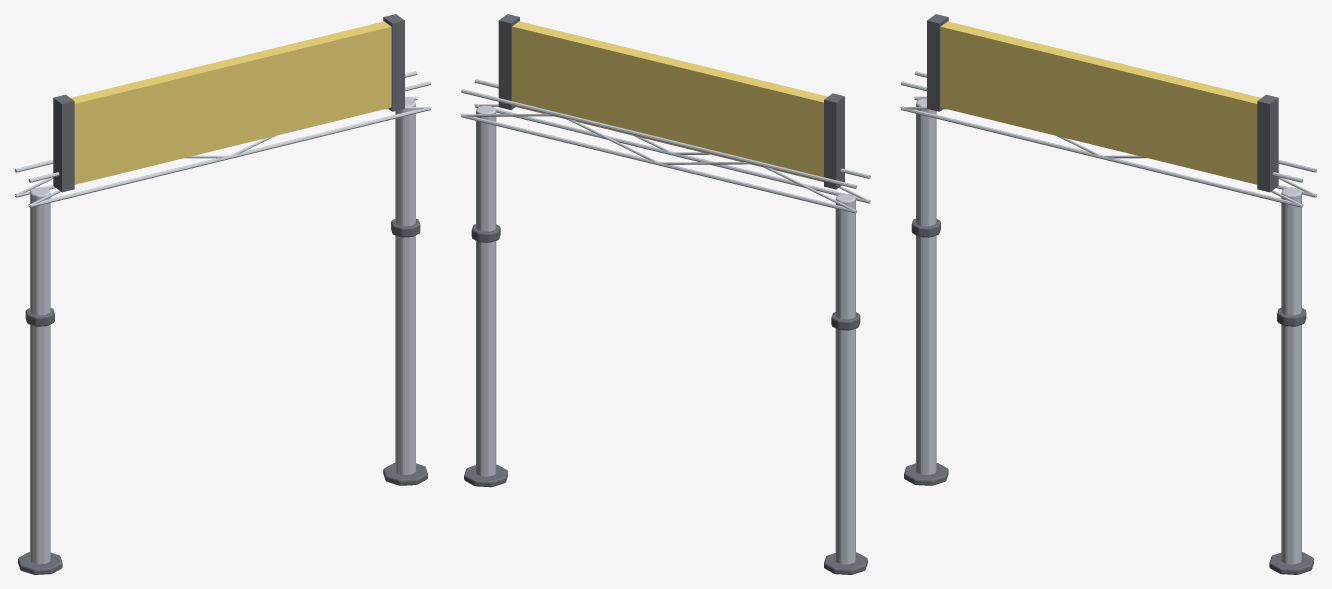
The model's file is EntranceGate.fbx.
The picture shows the model from 3 angles, left to right: view 1: azimuth 30°, elevation 25°; view 2: azimuth 150°, elevation 25°; view 3: azimuth 330°, elevation 25°; orthographic projection.
Parts seen in each view (by area): view 1: Gate_Sign, Gate_PillarL, Gate_PillarR, Gate_Lintel, Gate_SignTrimL, Gate_SignTrimR; view 2: Gate_Sign, Gate_PillarL, Gate_PillarR, Gate_Lintel, Gate_SignTrimL, Gate_SignTrimR; view 3: Gate_Sign, Gate_PillarR, Gate_PillarL, Gate_Lintel, Gate_SignTrimR, Gate_SignTrimL.
Part boxes in pixels (x1,y1,x2,y2): Gate_Sign: (71,21,391,184); Gate_PillarL: (18,187,62,574); Gate_PillarR: (383,98,427,485); Gate_Lintel: (14,71,431,207); Gate_SignTrimL: (53,94,74,192); Gate_SignTrimR: (383,14,404,111); Gate_Sign: (512,21,827,181); Gate_PillarL: (824,193,867,574); Gate_PillarR: (464,105,507,487); Gate_Lintel: (460,79,871,213); Gate_SignTrimL: (824,93,844,189); Gate_SignTrimR: (498,14,519,110); Gate_Sign: (940,21,1260,184); Gate_PillarR: (1269,187,1313,574); Gate_PillarL: (904,98,948,485); Gate_Lintel: (900,71,1317,207); Gate_SignTrimR: (1257,94,1278,192); Gate_SignTrimL: (927,14,948,111).
Size of the model in its own units: 577 by 635 by 56.63.
